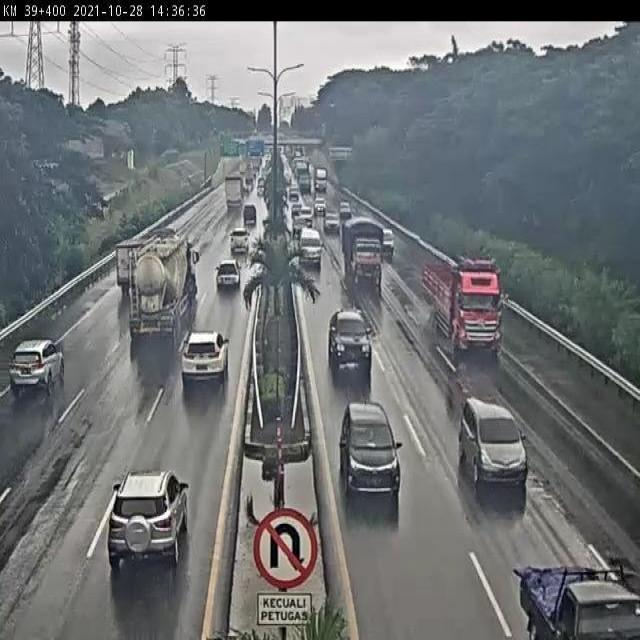big truck: (423, 246, 505, 362), (145, 239, 191, 333), (341, 229, 391, 287)
car: (516, 543, 640, 637), (453, 388, 534, 503), (96, 477, 185, 571), (348, 405, 407, 512), (322, 299, 381, 377), (17, 338, 67, 402), (183, 319, 229, 384), (298, 234, 323, 274), (217, 260, 244, 289), (232, 222, 255, 254), (382, 224, 395, 259), (323, 212, 341, 237)
small truck: (112, 242, 140, 294)
